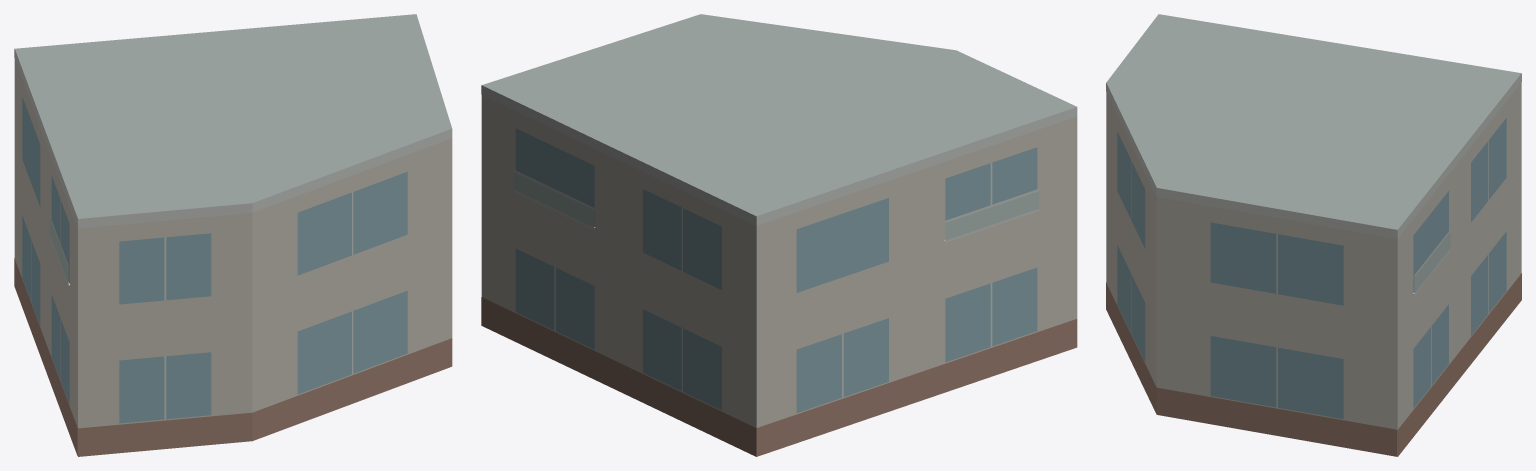
Rendered from survey-upis-32604018.glb.
3 renders of one model, left to right at view 1: azimuth 30°, elevation 25°; view 2: azimuth 150°, elevation 25°; view 3: azimuth 270°, elevation 25°, orthographic. The views are drawn at different scales.
Visible parts, largest first — view 1: survey-upis-32604018.tmp; view 2: survey-upis-32604018.tmp; view 3: survey-upis-32604018.tmp.
Boxes of the visible parts, x1,y1,x2,y2 form: survey-upis-32604018.tmp: (14,14,452,456); survey-upis-32604018.tmp: (481,14,1077,456); survey-upis-32604018.tmp: (1106,14,1521,456).
Bounding box in the file's own units: 12.46 × 6.1 × 10.13.
